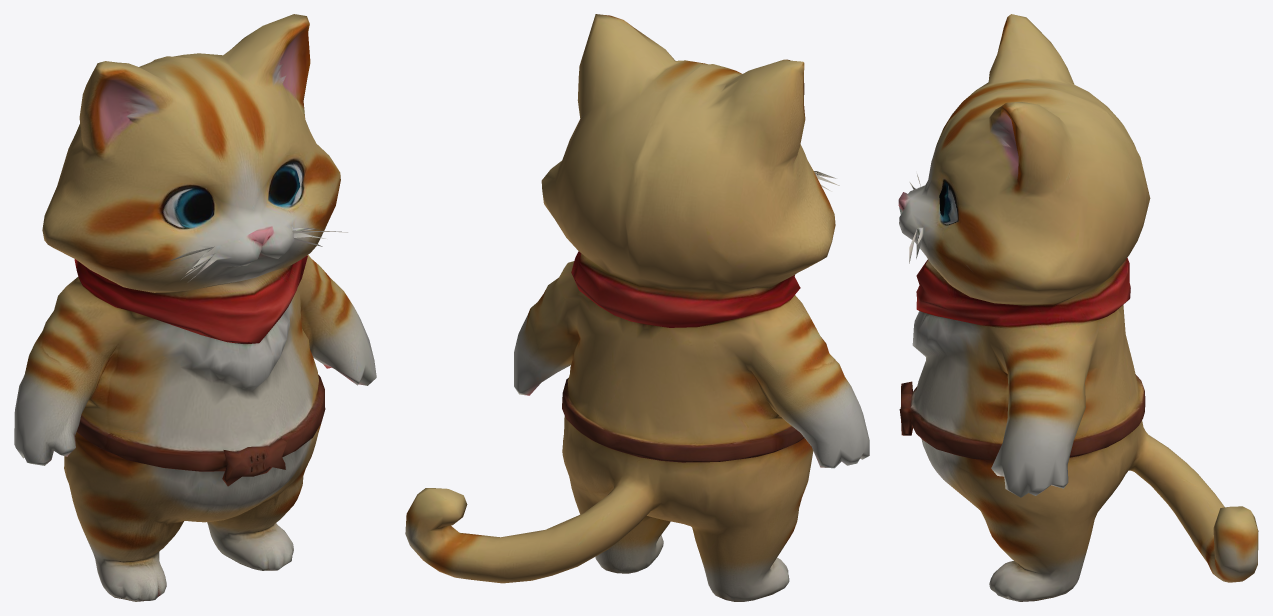
Rendered from cat.glb.
The picture shows the model from 3 angles, left to right: view 1: azimuth 30°, elevation 25°; view 2: azimuth 150°, elevation 25°; view 3: azimuth 270°, elevation 25°; orthographic projection. The views are drawn at different scales.
Parts seen in each view (by area): view 1: tripo_node_d58bd2e6-6600-409d-8493-159619e1f78f; view 2: tripo_node_d58bd2e6-6600-409d-8493-159619e1f78f; view 3: tripo_node_d58bd2e6-6600-409d-8493-159619e1f78f.
Boxes of the visible parts, x1,y1,x2,y2 form: tripo_node_d58bd2e6-6600-409d-8493-159619e1f78f: (14, 14, 376, 601); tripo_node_d58bd2e6-6600-409d-8493-159619e1f78f: (405, 14, 869, 601); tripo_node_d58bd2e6-6600-409d-8493-159619e1f78f: (898, 14, 1258, 601).
Size of the model in its own units: 0.6732 by 0.9786 by 0.6368.
1 material, 1 textured.
